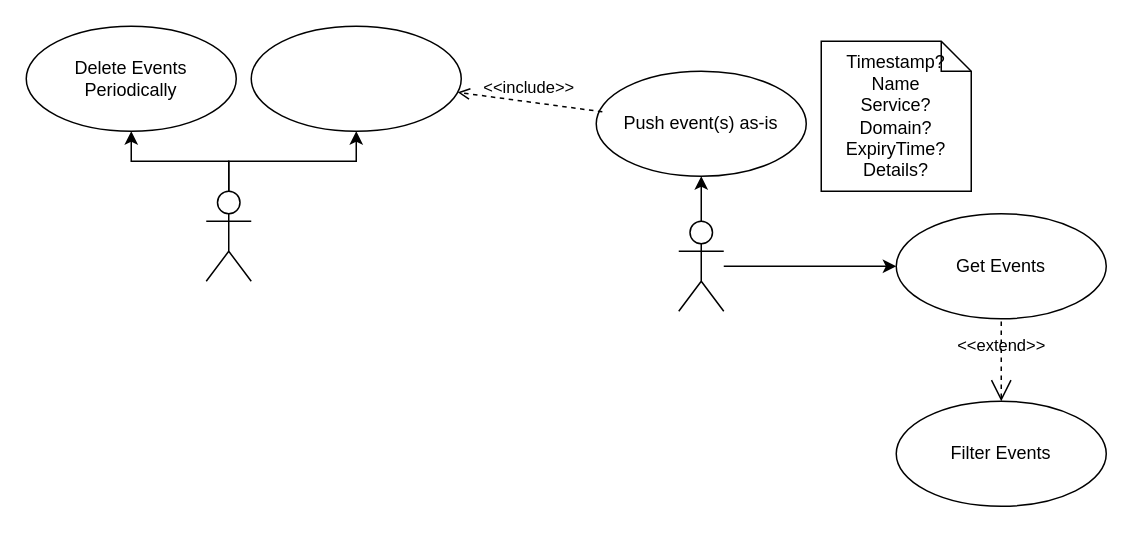
Some shapes in this 1133 by 533 pixel diagram are drawn without their labels. Each missing label, with the centre of its shape:
"Api User" belongs at point 700,265.
"Obfuscate PII" belongs at point 355,78.
"System" belongs at point 228,235.
